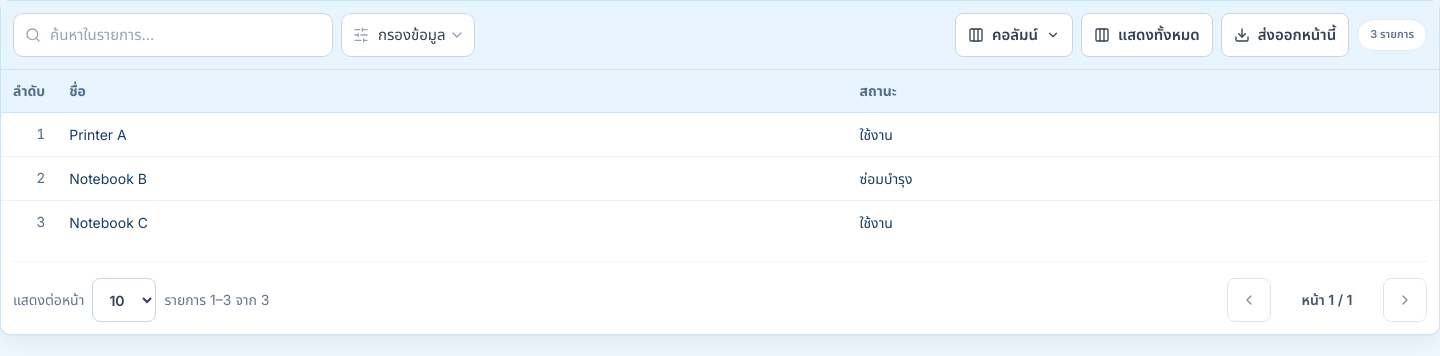
DataTable › searches rows and filters a selected column
Step 1. Type "Notebook" into the search field named "ค้นหาในตาราง" → point(173, 35), box [13,13,333,57]
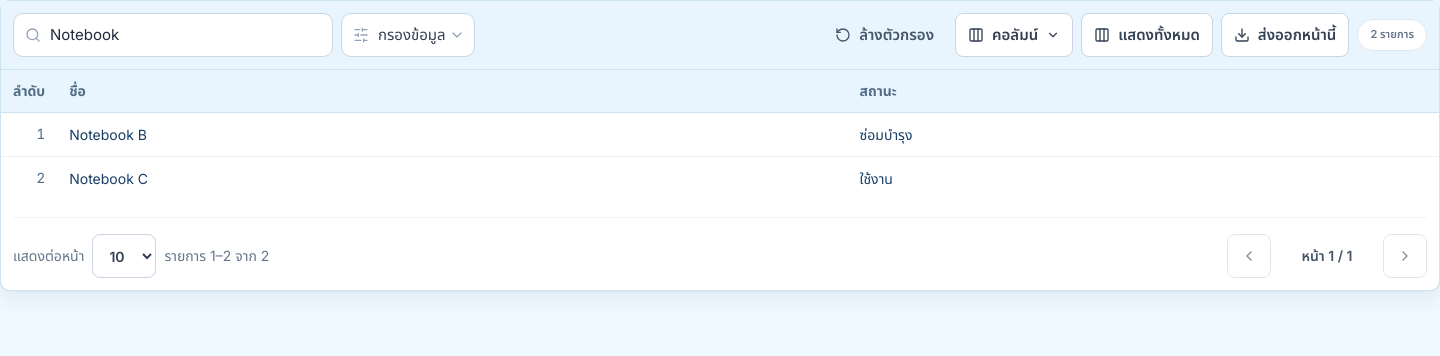
Expected: the text "Notebook B" is shown, [69,126,147,143]
Expected: the text "Printer A" is gone
Step 2. Select "สถานะ" in the dropdown named "เลือกคอลัมน์สำหรับกรอง" → point(408, 35), box [341,13,475,57]
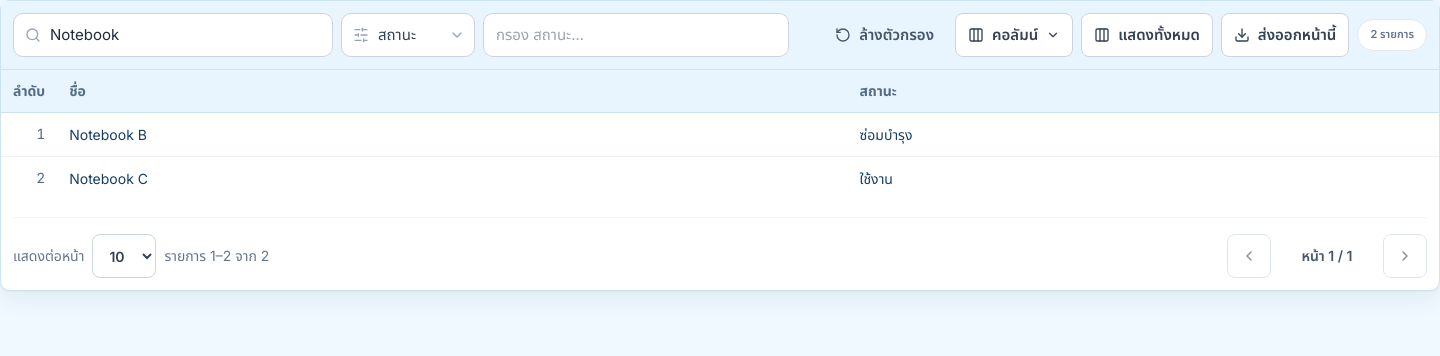
Step 3. Type "ใช้งาน" into the field named "ค่าที่ต้องการกรองใน สถานะ" → point(636, 35), box [483,13,789,57]
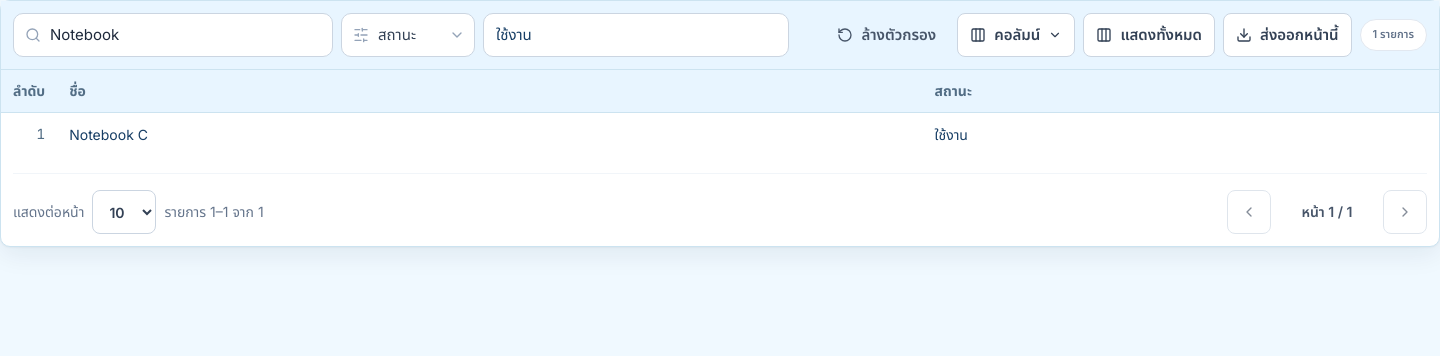
Expected: the text "Notebook C" is shown, [69,126,148,143]
Expected: the text "Notebook B" is gone
